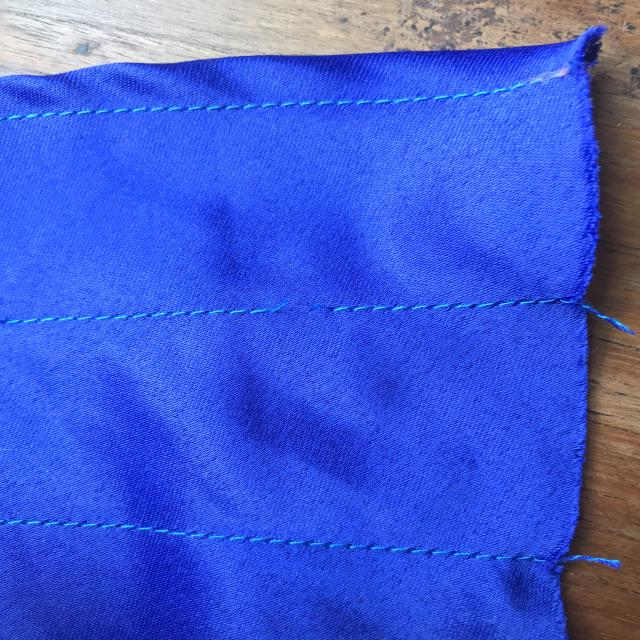broken: (240, 293, 366, 333)
good: (174, 518, 402, 574), (166, 89, 408, 127)
